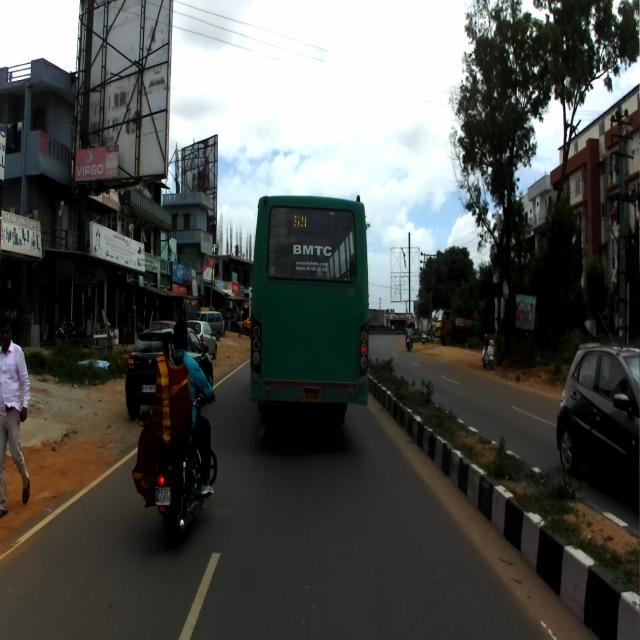Car: (555, 309, 639, 508)
Car_Maruti-Suzuki: (125, 312, 214, 424)
bus: (247, 190, 369, 440)
motorcycle_RoyalEnfield: (148, 382, 216, 546)
